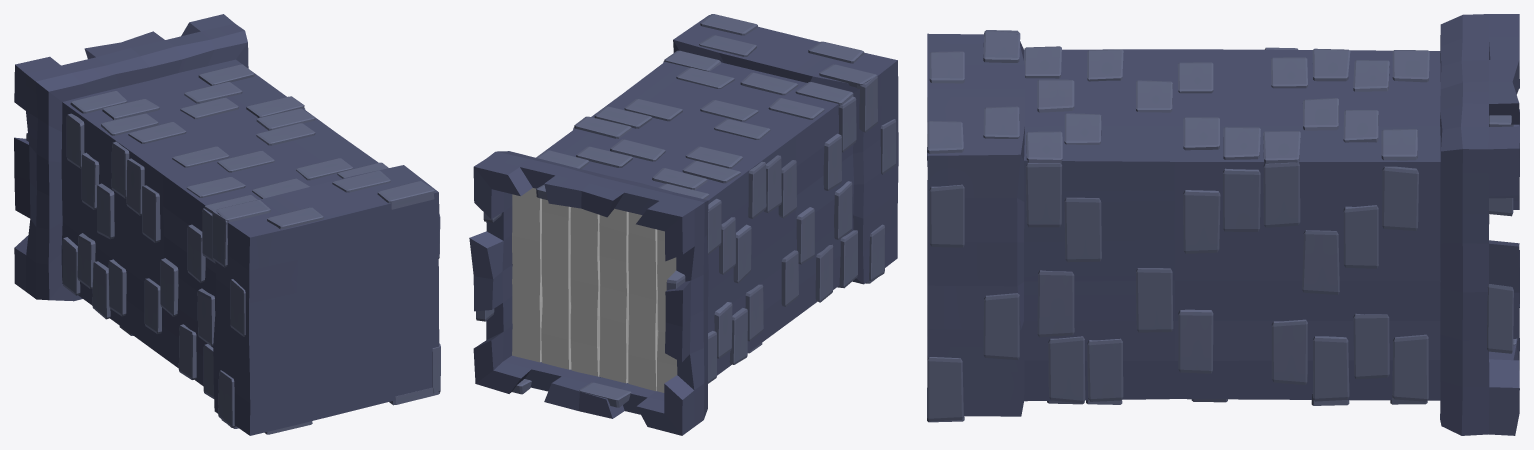
Rendered from Stone_Tower.fbx.
The picture shows the model from 3 angles, left to right: view 1: azimuth 30°, elevation 25°; view 2: azimuth 150°, elevation 25°; view 3: azimuth 270°, elevation 25°; orthographic projection. The views are drawn at different scales.
Visible parts, largest first — view 1: Stone_Tower; view 2: Stone_Tower; view 3: Stone_Tower.
Part boxes in pixels (bbox=[...]): Stone_Tower: bbox=[14, 14, 440, 435]; Stone_Tower: bbox=[469, 14, 898, 435]; Stone_Tower: bbox=[927, 14, 1519, 435].
Size of the model in its own units: 772 by 423 by 418.
